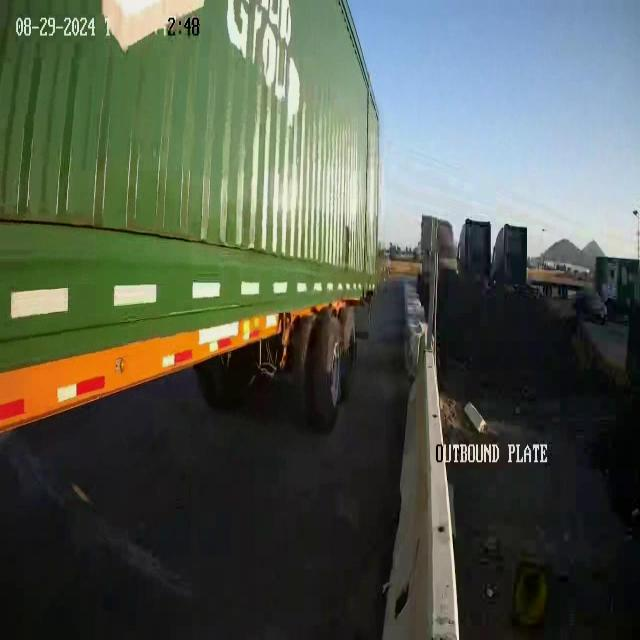CONTAINER: (1, 1, 382, 435)
